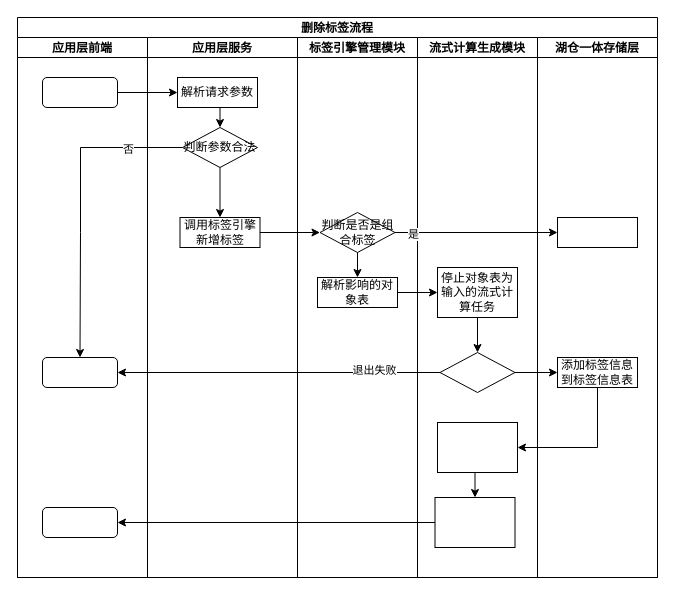
Some shapes in this 675 by 595 pixel diagram are drawn without their labels. Each missing label, with the centre of its shape:
"判断任务退出状态" goes at (477,372).
"启动新的流式计算任务" goes at (474,522).
"添加概念词/标签添加请求" goes at (80,92).
"添加组合标签到标签信息表" goes at (597,232).
"生成新的计算任务" goes at (477,447).
"返回添加成功" goes at (80,522).
"返货错误信息" goes at (80,372).
